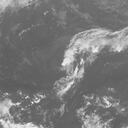cyclone: (41, 29, 101, 94)
